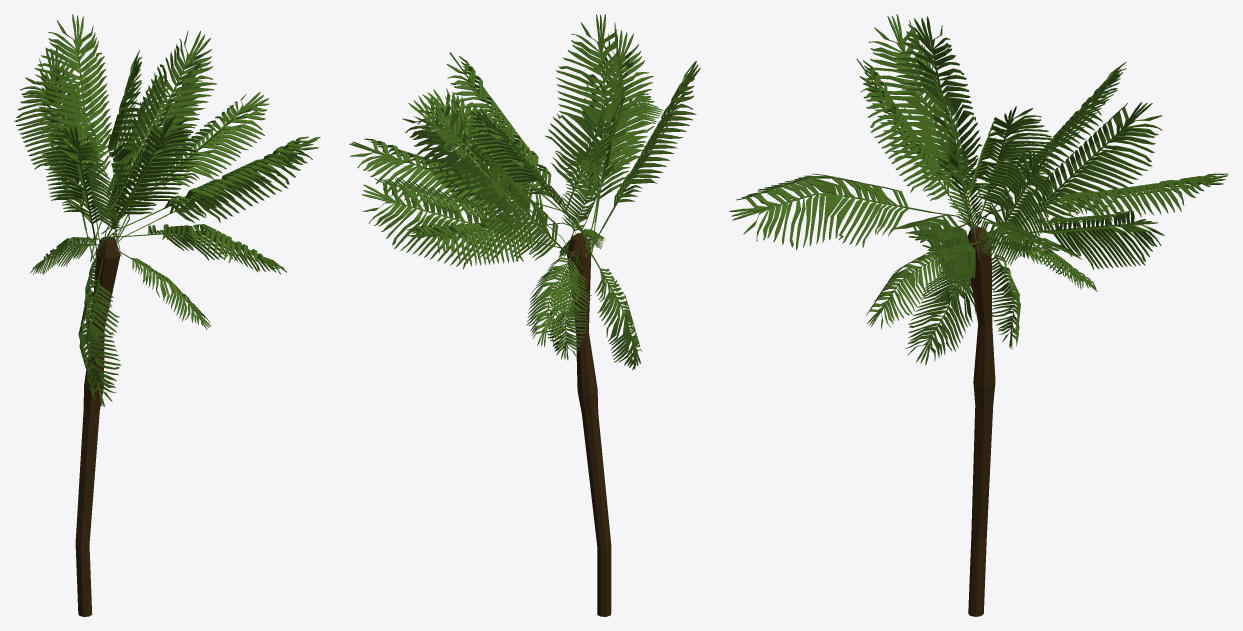
The model's file is palma2.glb.
3 views of the same model, side by side, from view 1: azimuth 30°, elevation 25°; view 2: azimuth 150°, elevation 25°; view 3: azimuth 270°, elevation 25° (orthographic). The views are drawn at different scales.
Visible parts, largest first — view 1: Circle; view 2: Circle; view 3: Circle.
Part boxes in pixels (x1,y1,x2,y2): Circle: (14,14,320,616); Circle: (349,14,700,616); Circle: (729,14,1228,616).
Size of the model in its own units: 7.87 by 15.05 by 11.1.
